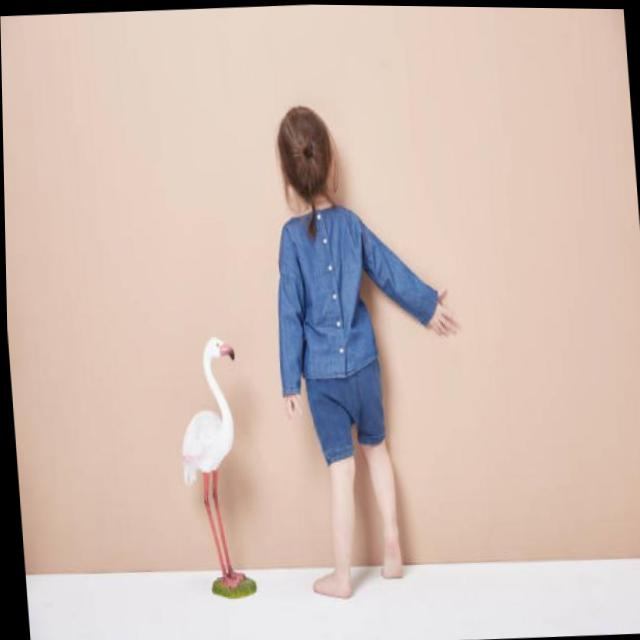no helmet: (248, 90, 356, 241)
